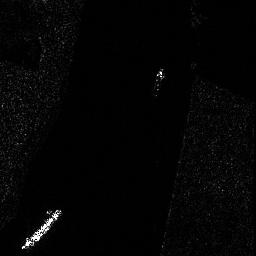ship: (21, 208, 63, 250), (152, 67, 164, 97)
